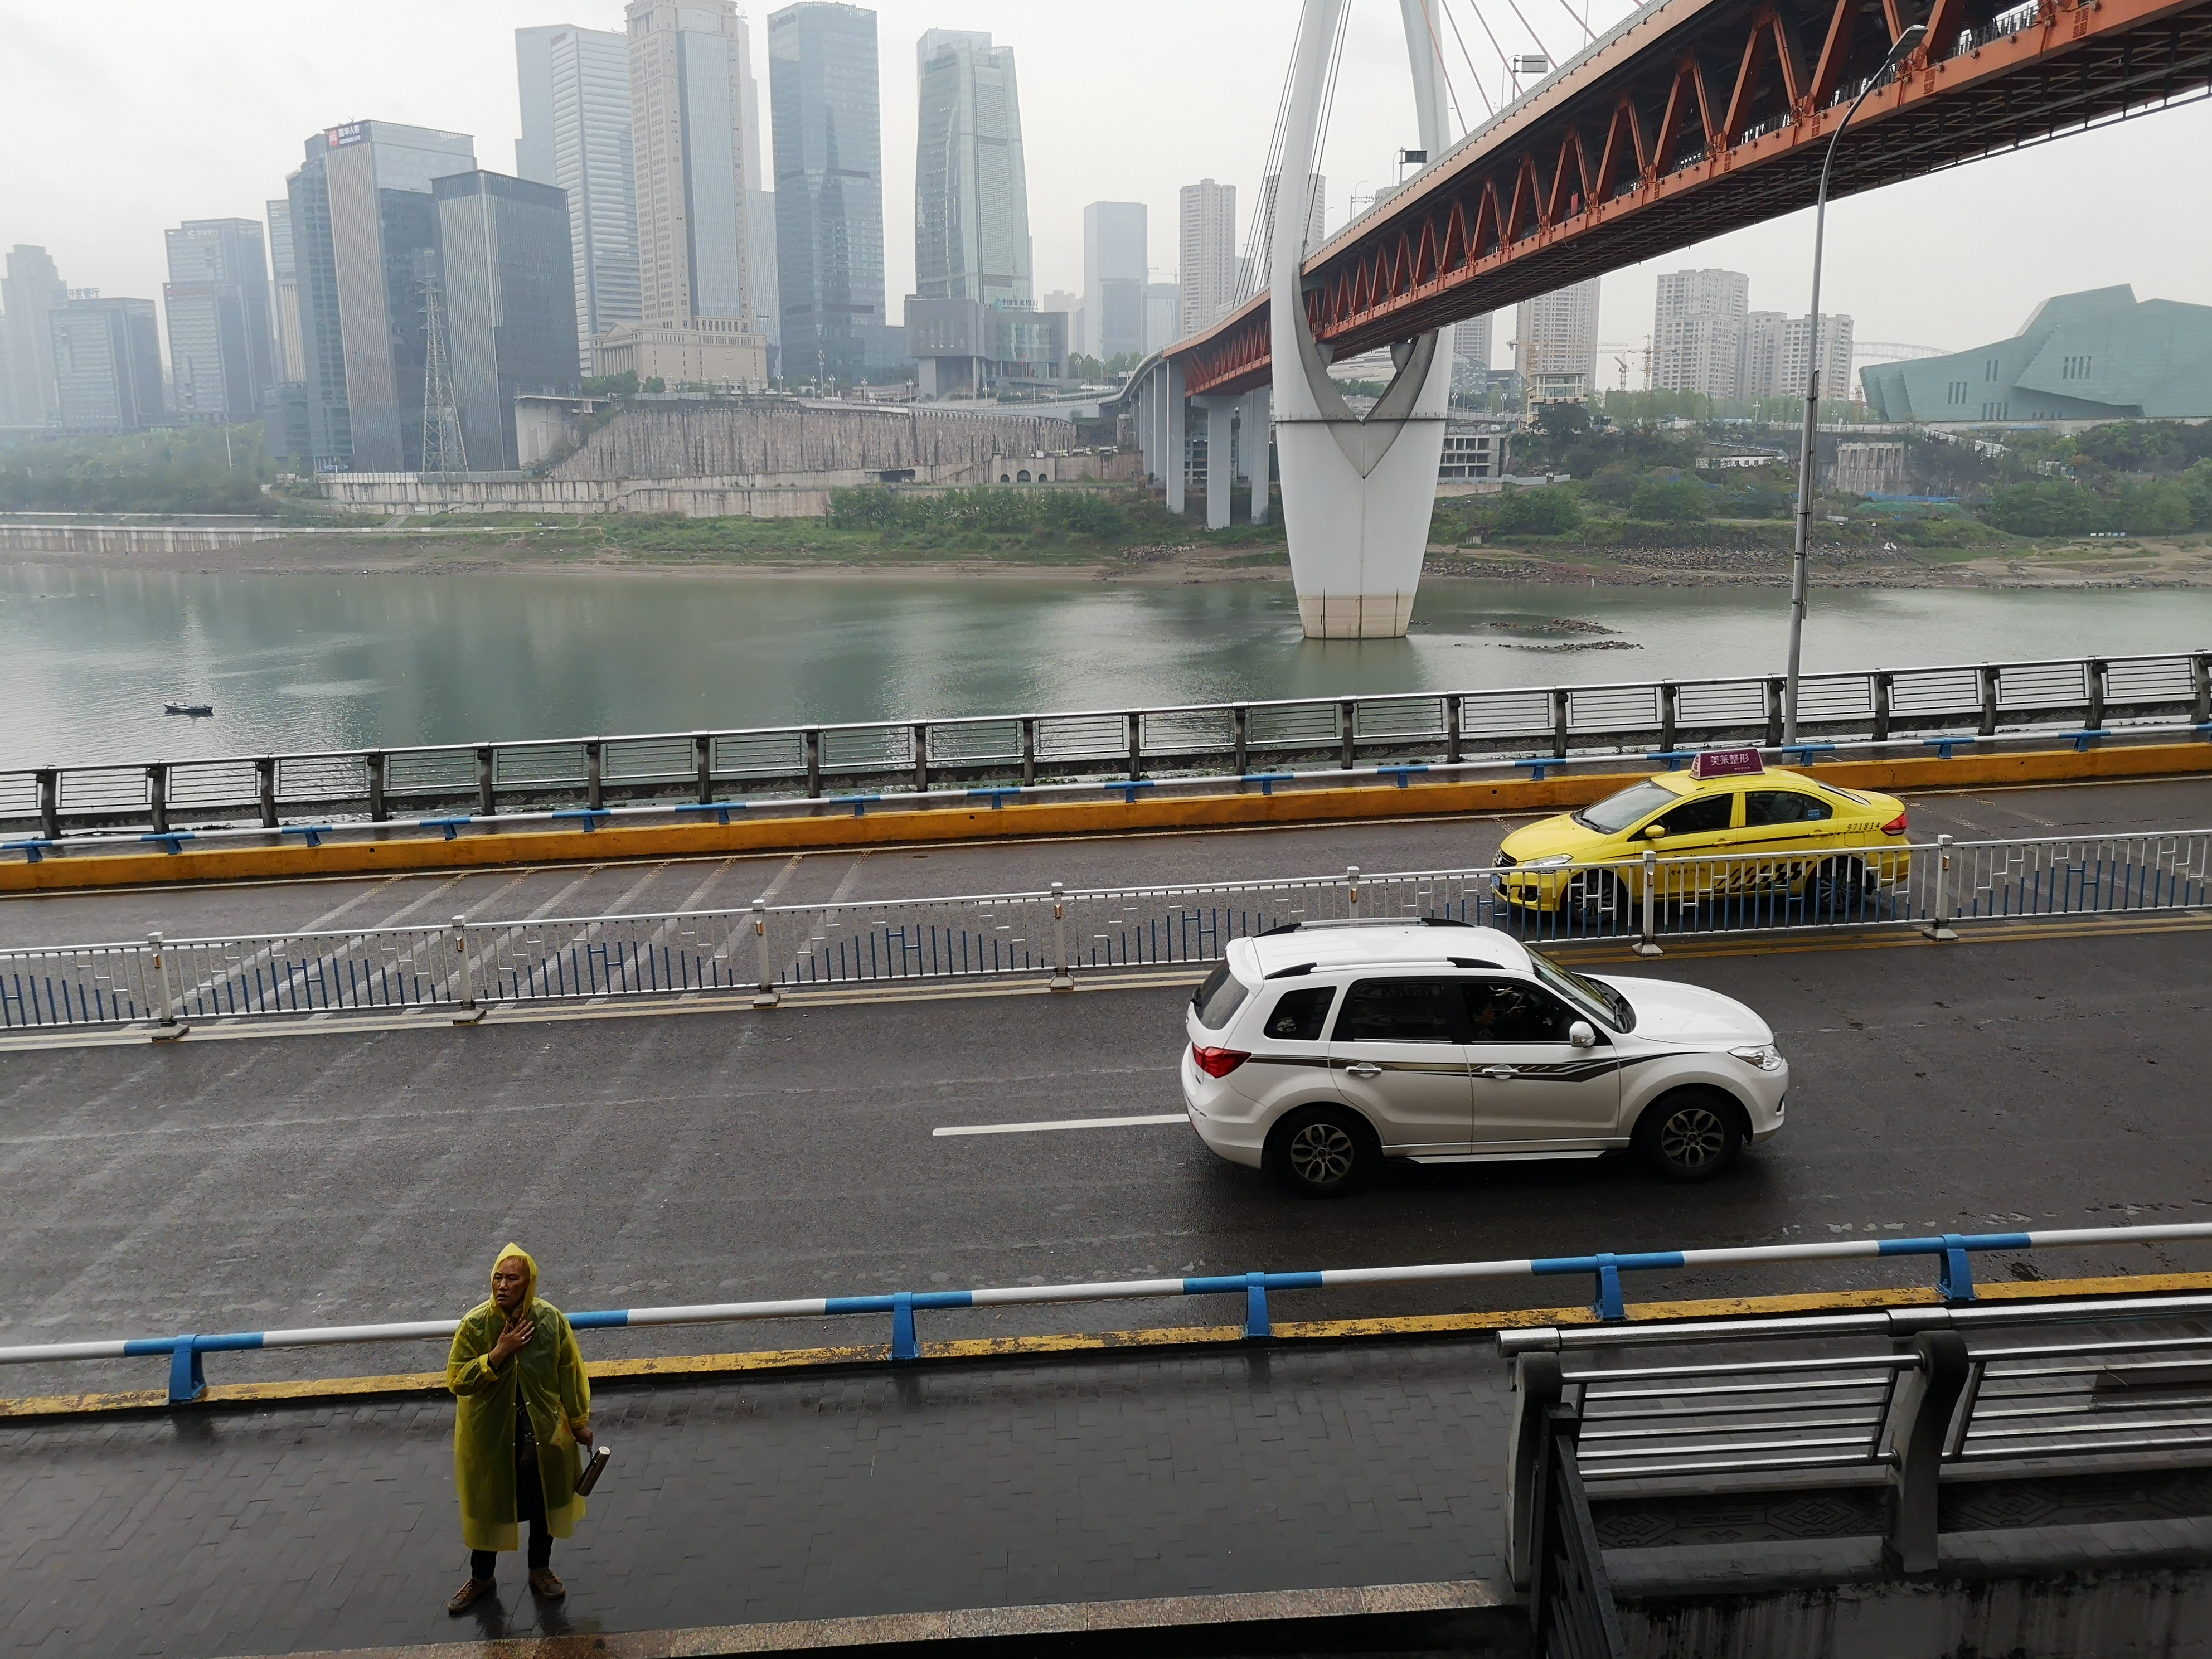car: (1127, 897, 1865, 1197)
